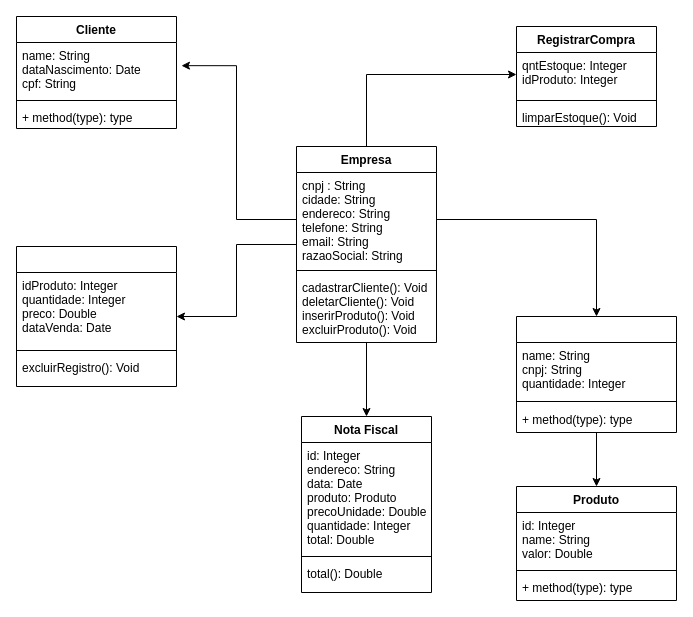
The diagram is 693 pixels wide and 617 high, and some of its shapes have lost their labels. Each missing label, with the box of its shape:
Fornecedor: (516, 316, 676, 432)
RegistrarVenda: (16, 246, 176, 386)
